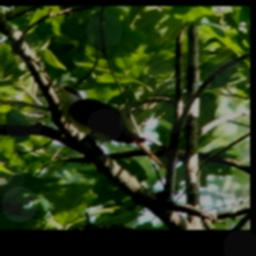Cuckoo: (50, 82, 168, 170)
